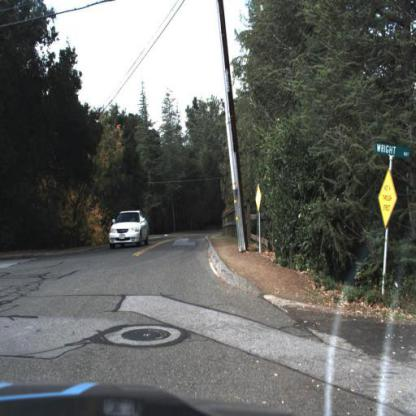car: (108, 209, 152, 249)
